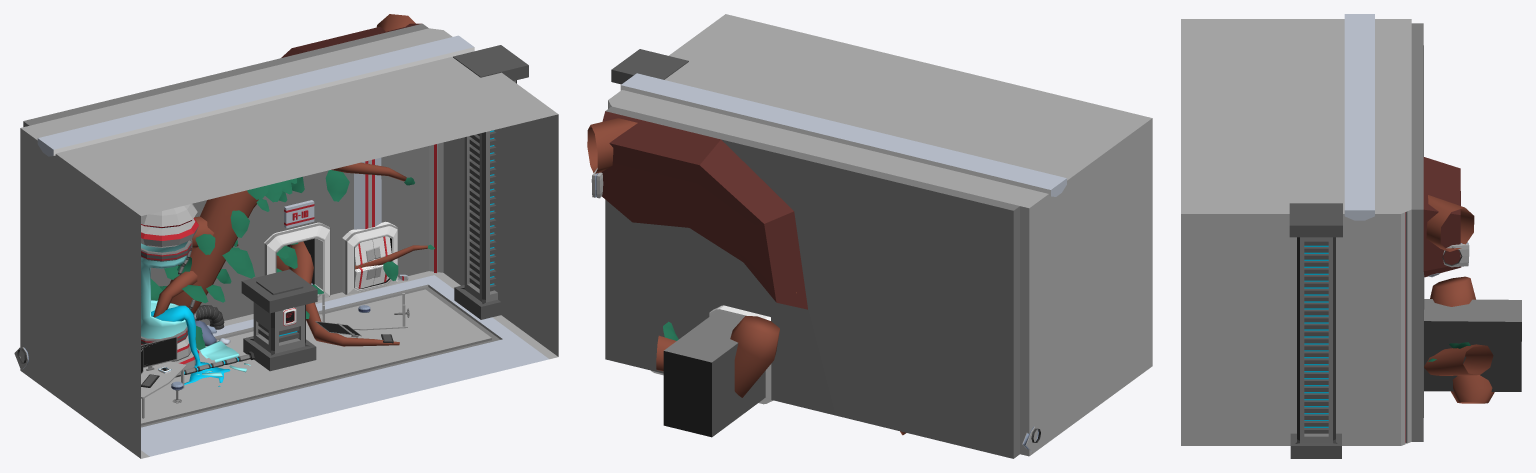
The model's file is room01.glb.
3 renders of one model, left to right at view 1: azimuth 30°, elevation 25°; view 2: azimuth 150°, elevation 25°; view 3: azimuth 270°, elevation 25°, orthographic. The views are drawn at different scales.
Parts seen in each view (by area): view 1: Room01; view 2: Room01; view 3: Room01.
Part boxes in pixels (box(x1,y1,x2,y2)): Room01: box(14, 14, 558, 458); Room01: box(587, 14, 1152, 458); Room01: box(1181, 14, 1521, 458).
Size of the model in its own units: 19.33 by 10.93 by 13.31.
Materials: 1 (1 with a texture image).
